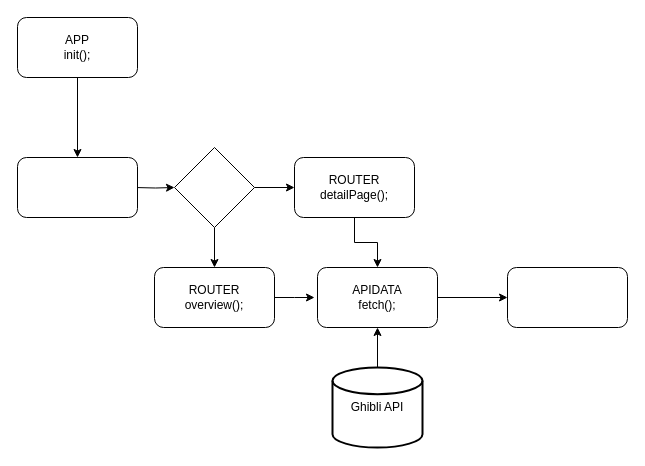
The diagram is 645 pixels wide and 466 high, and some of its shapes have lost their labels. Each missing label, with the box of its shape:
RENDER display();: (506, 266, 628, 328)
ROUTER init();: (16, 156, 138, 218)
Welke pagina: (174, 146, 254, 228)
